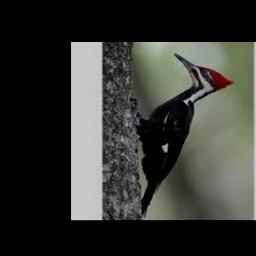Woodpecker: (136, 53, 235, 217)
